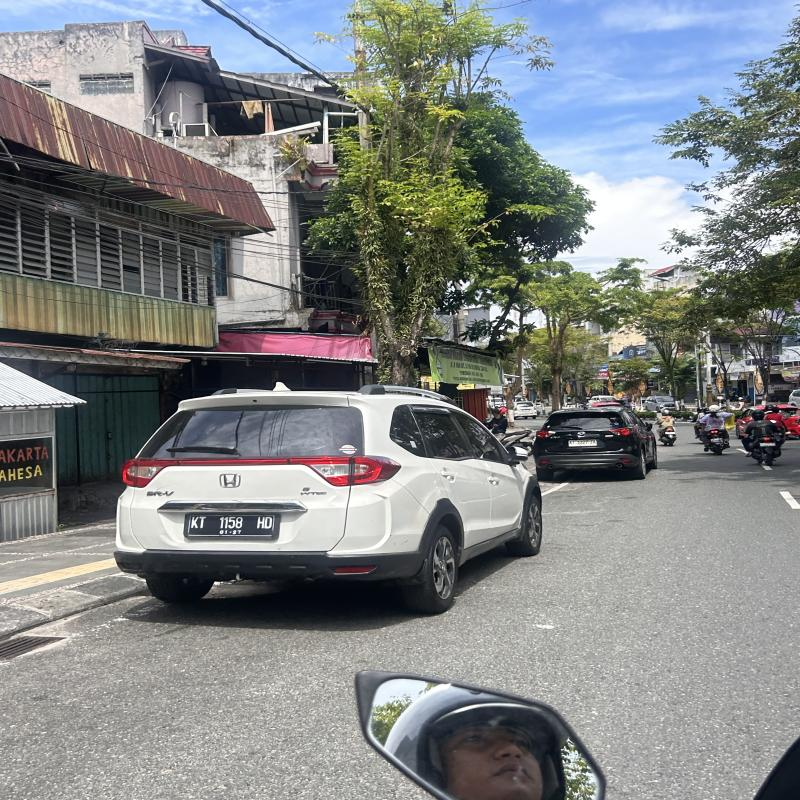license plate on a car: (184, 512, 279, 540), (569, 439, 596, 447)
